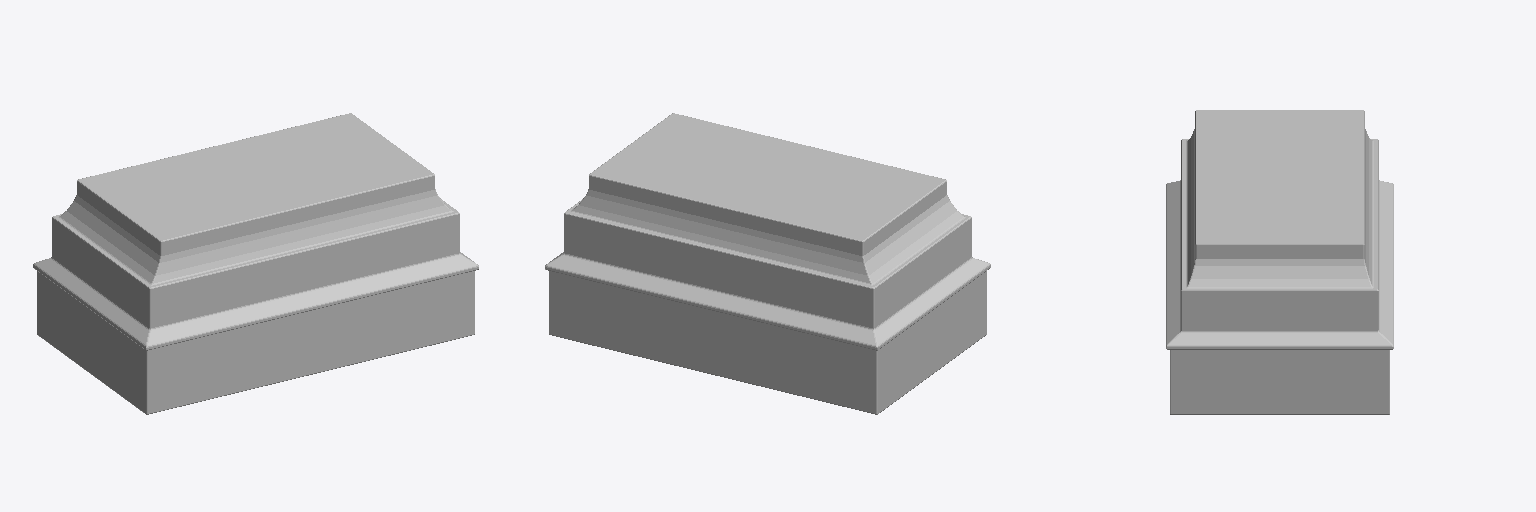
File: pedistal.obj
The picture shows the model from 3 angles: view 1: azimuth 30°, elevation 25°; view 2: azimuth 150°, elevation 25°; view 3: azimuth 270°, elevation 25°; orthographic projection.
Visible parts, largest first — view 1: Pedistal; view 2: Pedistal; view 3: Pedistal.
Part boxes in pixels (left/top/right/bottom): Pedistal: left=33, top=113, right=478, bottom=414; Pedistal: left=545, top=113, right=990, bottom=414; Pedistal: left=1166, top=110, right=1393, bottom=414.
Bounding box in the file's own units: 4.37 × 1.98 × 2.59.